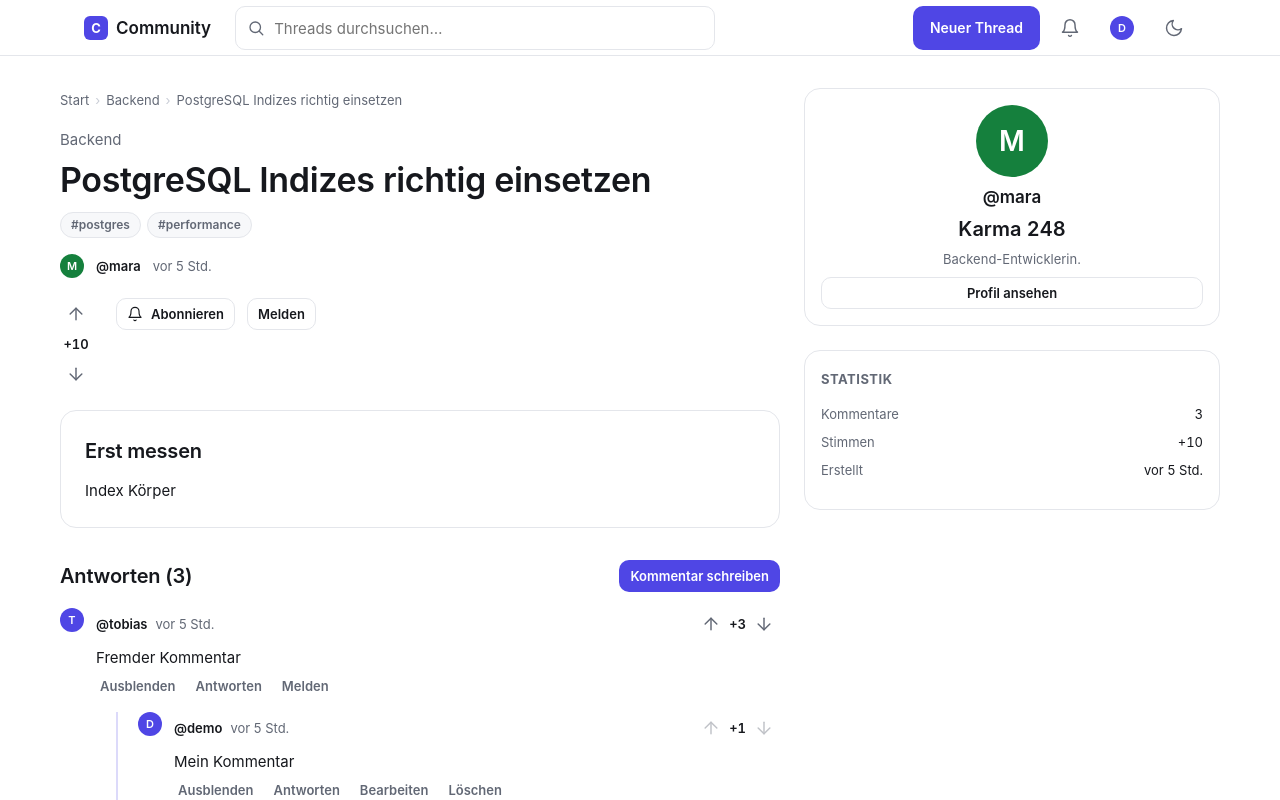
Test case: forum thread page › upvotes the thread and shows the new score immediately
Expected: the heading "PostgreSQL Indizes richtig einsetzen" is shown, 60,159 -> 651,200
Click the button named "Thread upvoten" at (76, 314), box 60,298 -> 92,330
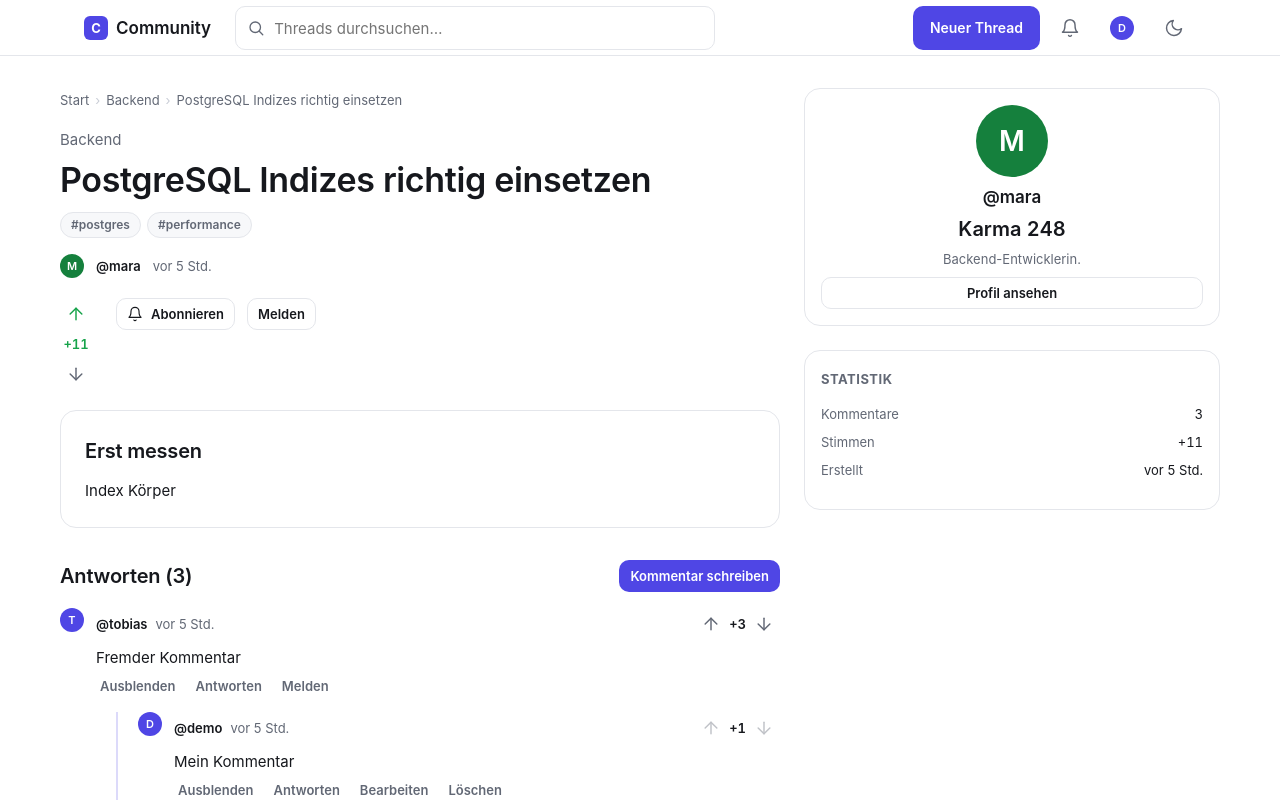
Expected: the text "+11" below "#postgres" is shown, 63,336 -> 89,352
